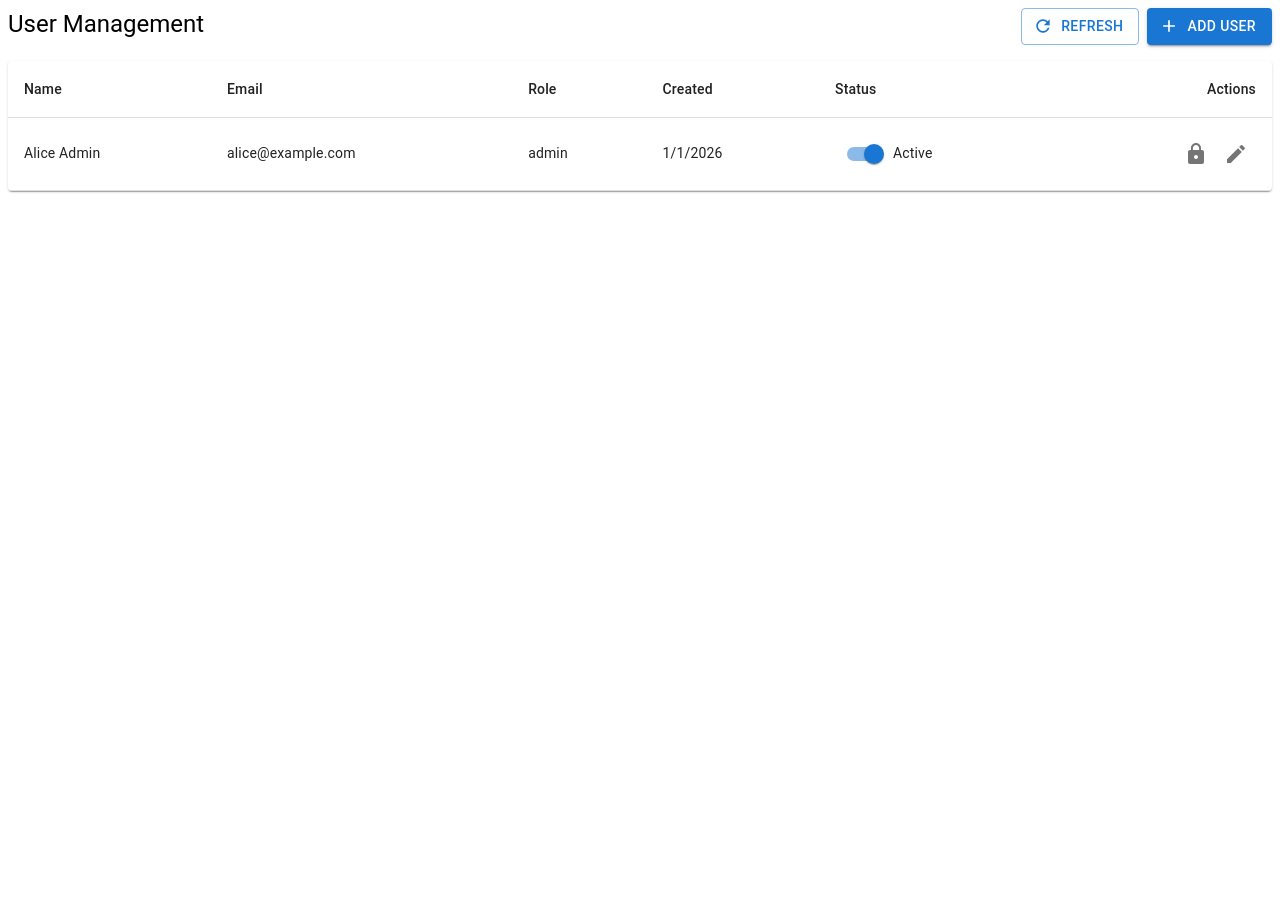
UserManagement — edit user › shows an error when an edit fails
The image size is (1280, 900).
Expected: the text "Alice Admin" is shown, [8, 117, 211, 190]
Click the button named "edit user" at (1236, 154), box [1216, 134, 1256, 174]
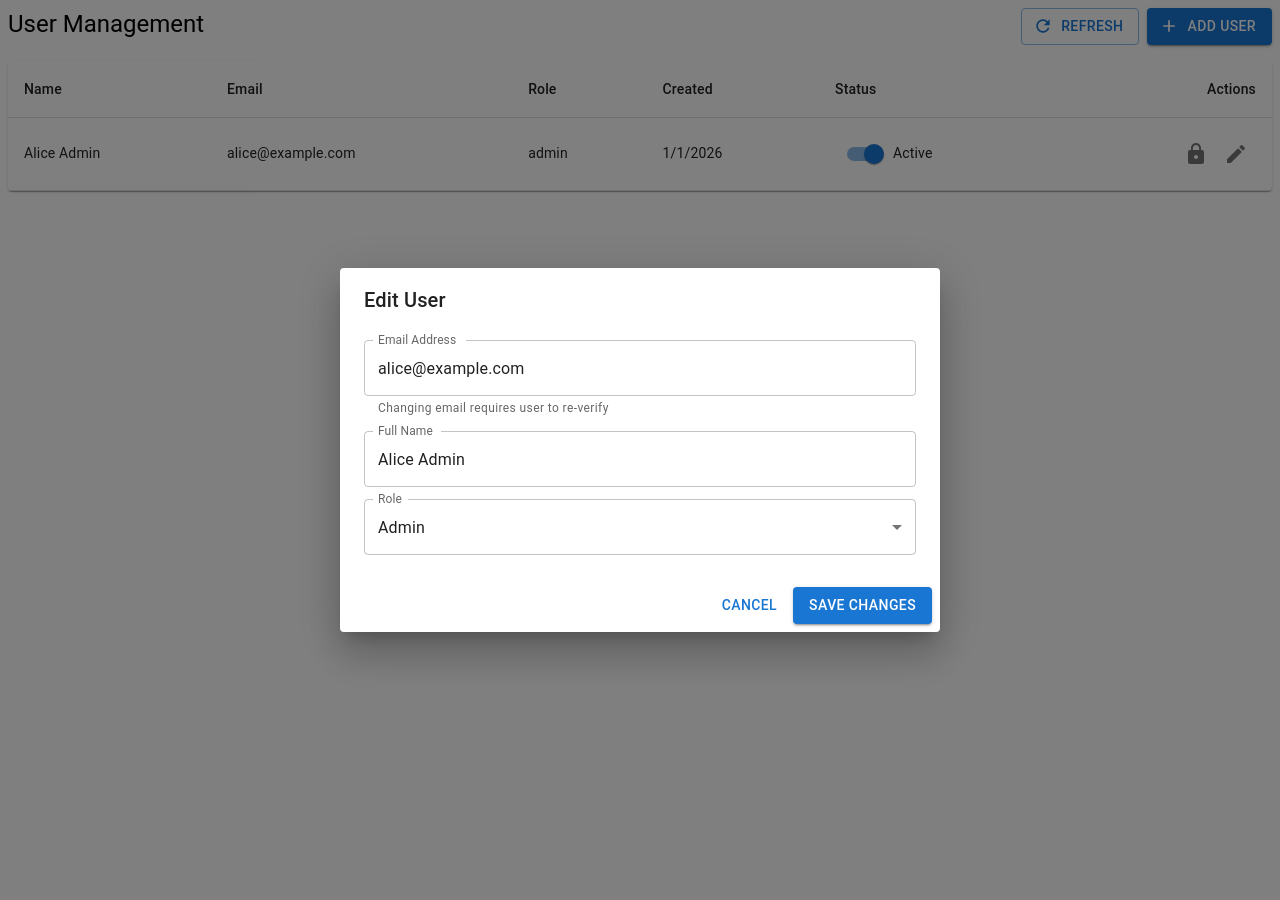
Expected: the heading "Edit User" is shown, [364, 288, 446, 312]
Click the button "Save Changes" at (863, 605), box [793, 587, 932, 624]
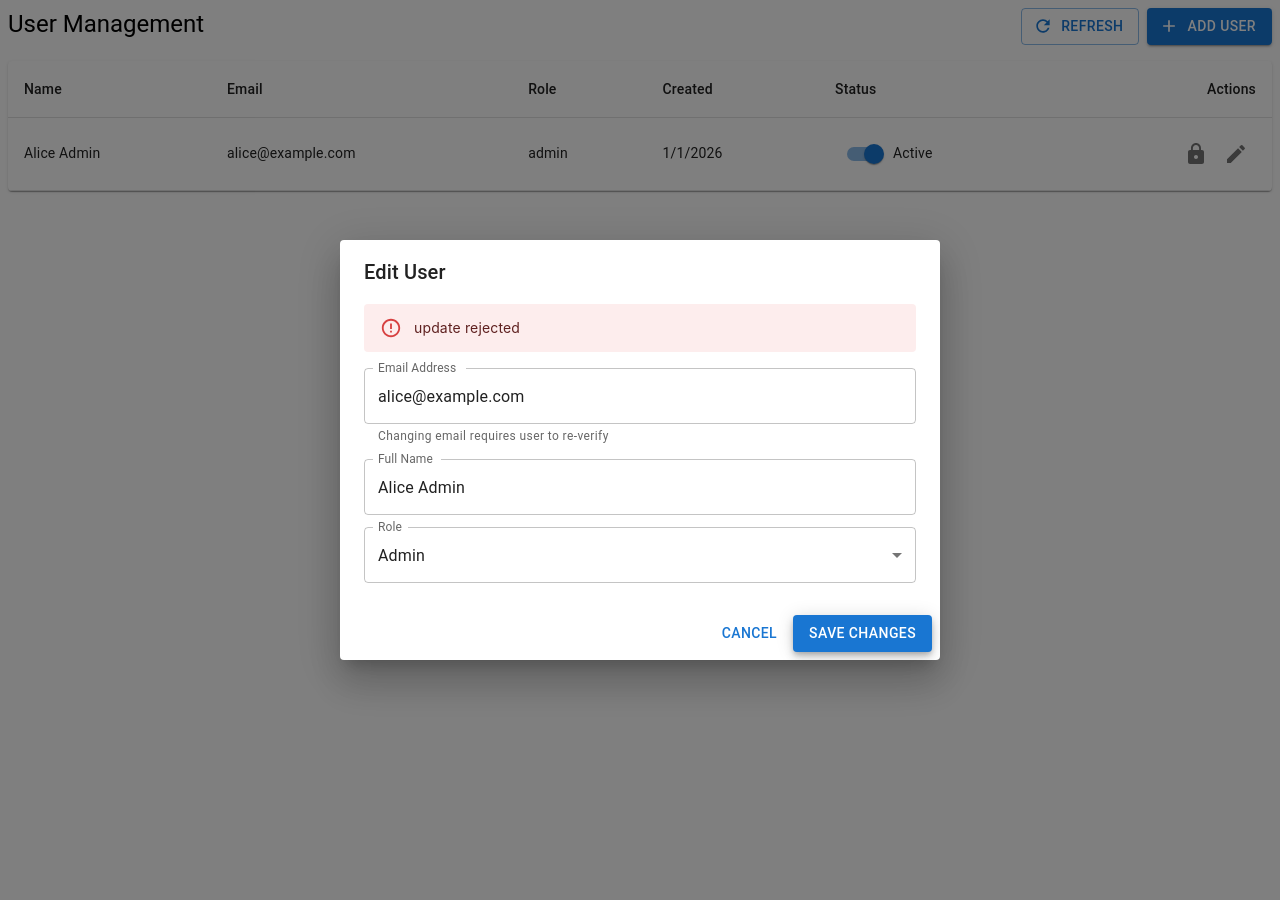
Expected: the text "update rejected" is shown, [414, 319, 520, 336]
